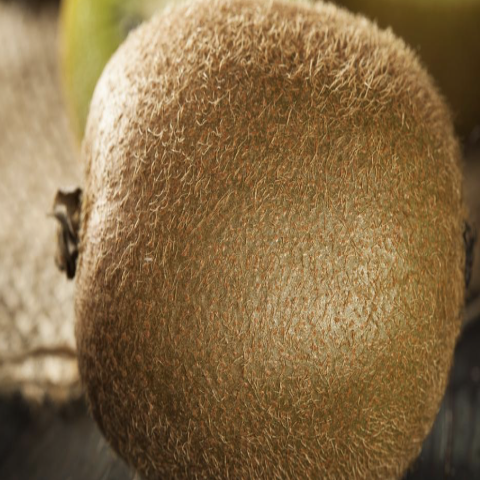kiwi: (32, 3, 479, 480)
